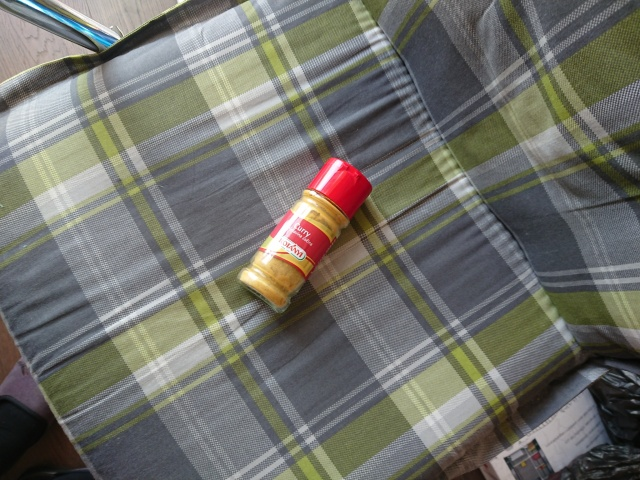Kotanyi Curry Spices Mix 70g: (232, 155, 375, 318)
